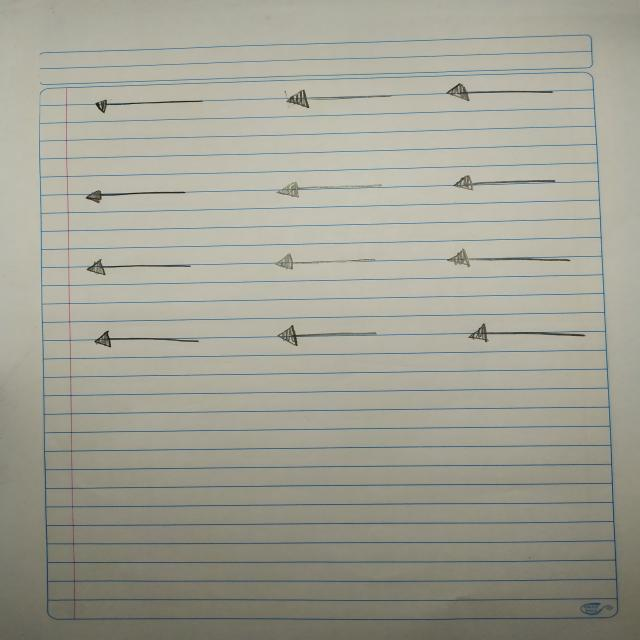arrow_line_left: (452, 320, 601, 350), (254, 177, 404, 206), (81, 327, 217, 354), (438, 248, 584, 273), (265, 322, 394, 348), (77, 256, 208, 280), (440, 81, 562, 106), (442, 171, 564, 196), (261, 250, 388, 274), (82, 95, 221, 116), (276, 88, 402, 111), (76, 185, 204, 206)
